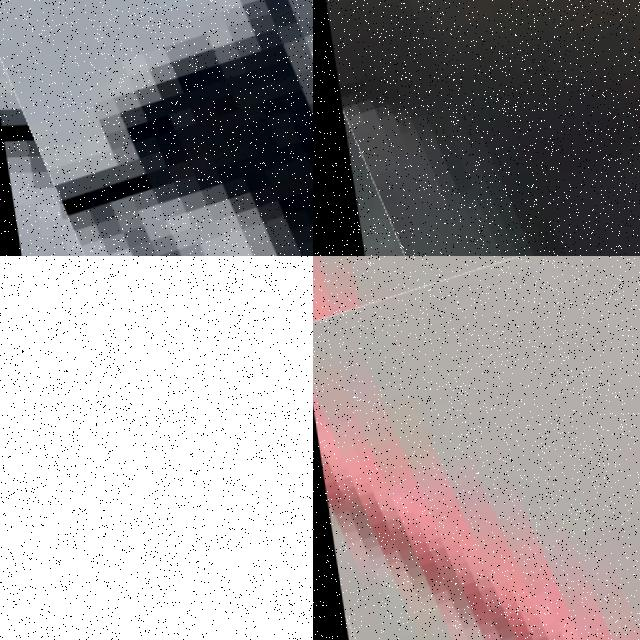drone: (313, 256, 640, 640), (313, 0, 640, 256), (0, 0, 313, 256)
